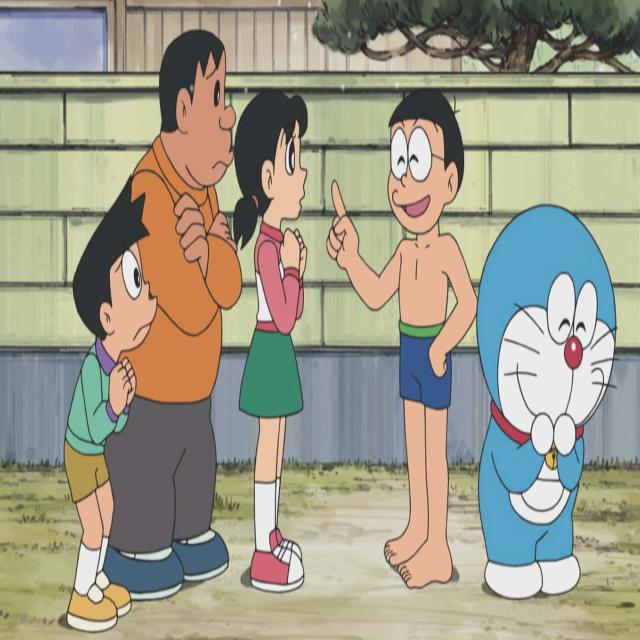doraemon: (467, 179, 621, 478)
jaian: (154, 31, 240, 213)
nobita: (382, 82, 469, 257)
shizuka: (228, 76, 312, 264)
suneo: (69, 162, 161, 386)
